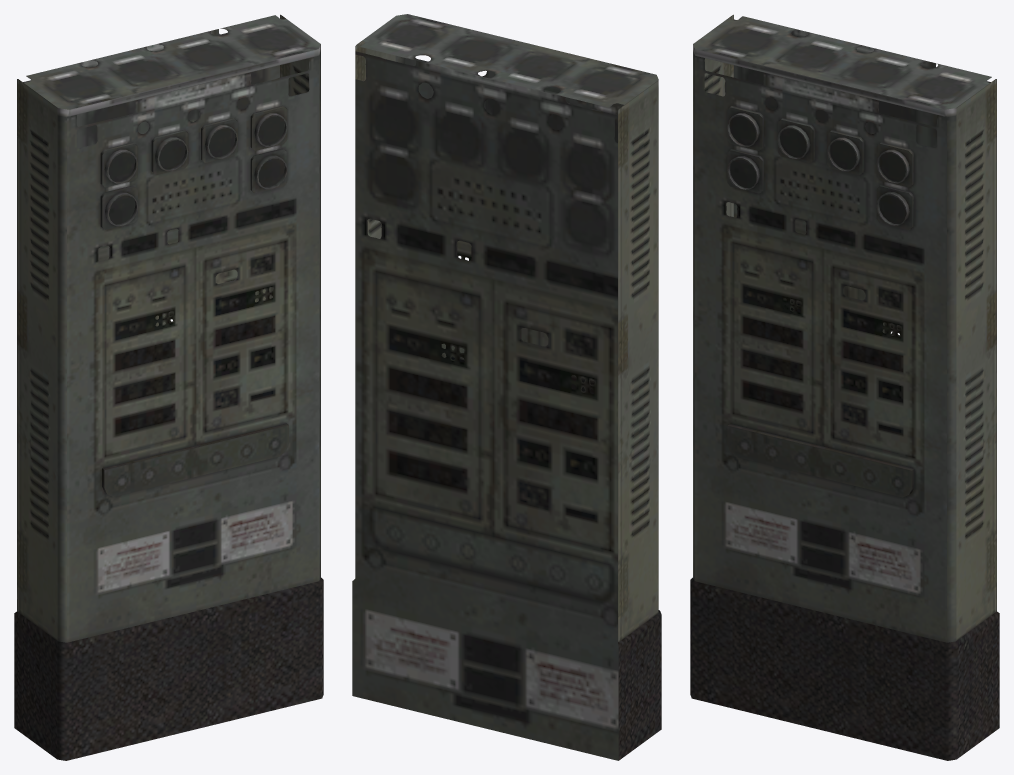
The model's file is sm22_019_switchboard03b.fbx.
3 renders of one model, left to right at view 1: azimuth 30°, elevation 25°; view 2: azimuth 150°, elevation 25°; view 3: azimuth 330°, elevation 25°, orthographic.
Visible parts, largest first — view 1: LOD_1_Group_0_Sub_1__sm22_019_Switchboard03B_A_Mat, LOD_1_Group_1_Sub_1__sm22_019_Switchboard03B_A_Mat; view 2: LOD_1_Group_0_Sub_1__sm22_019_Switchboard03B_A_Mat; view 3: LOD_1_Group_0_Sub_1__sm22_019_Switchboard03B_A_Mat, LOD_1_Group_1_Sub_1__sm22_019_Switchboard03B_A_Mat.
Boxes of the visible parts, bbox=[...] form: LOD_1_Group_0_Sub_1__sm22_019_Switchboard03B_A_Mat: bbox=[14, 14, 323, 760]; LOD_1_Group_1_Sub_1__sm22_019_Switchboard03B_A_Mat: bbox=[100, 105, 287, 229]; LOD_1_Group_0_Sub_1__sm22_019_Switchboard03B_A_Mat: bbox=[352, 14, 661, 760]; LOD_1_Group_0_Sub_1__sm22_019_Switchboard03B_A_Mat: bbox=[690, 14, 999, 760]; LOD_1_Group_1_Sub_1__sm22_019_Switchboard03B_A_Mat: bbox=[727, 106, 913, 229].
Size of the model in its own units: 0.7372 by 1.72 by 0.2386.
